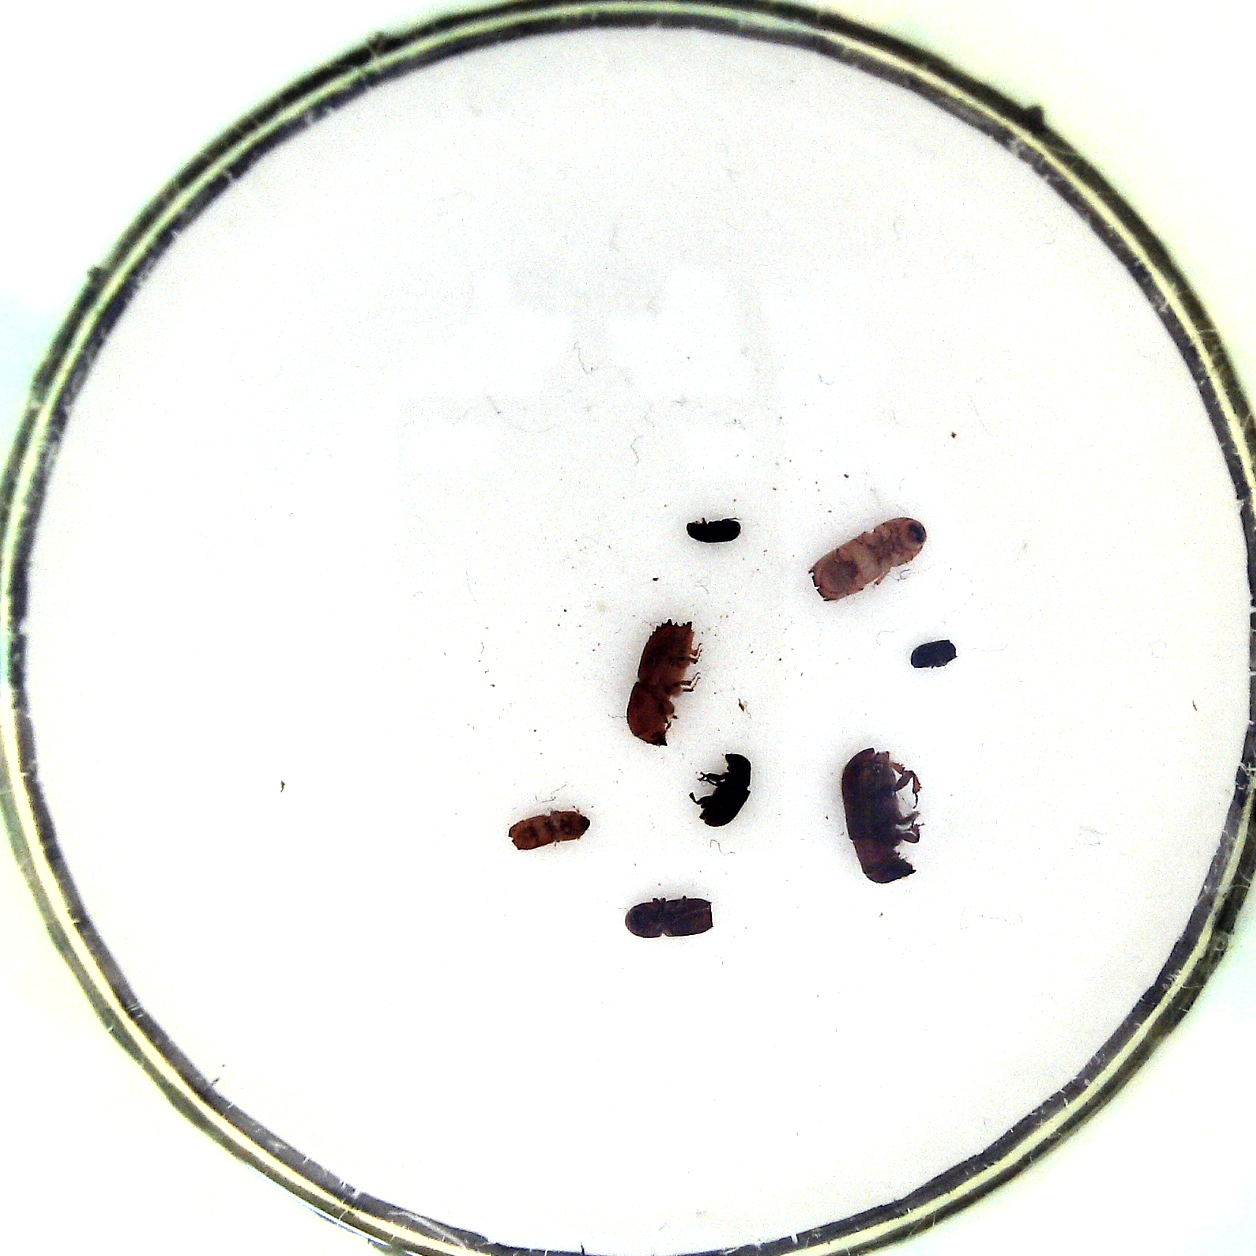Boerner: (620, 619, 715, 755), (803, 512, 928, 608)
Leconte: (836, 743, 930, 888)
Linnaeus: (623, 893, 715, 943)
acuminatus: (501, 807, 598, 851)
armandi: (682, 750, 755, 829)
coleoptera: (905, 635, 962, 674), (680, 514, 744, 547)
